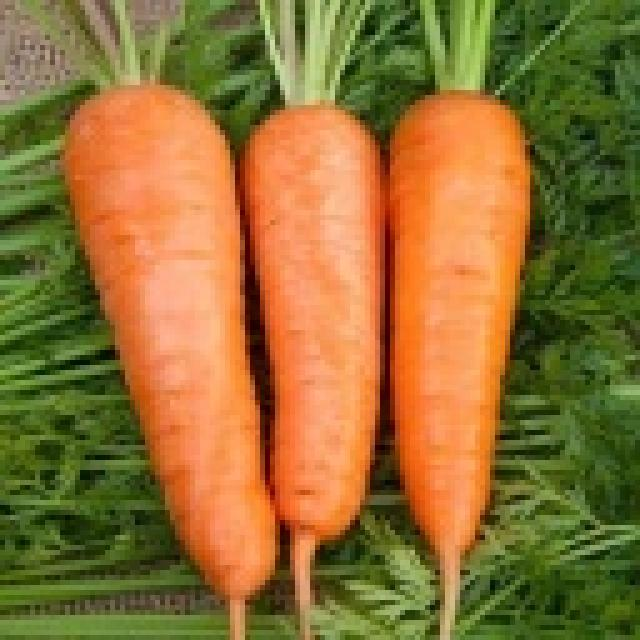carrot: (60, 53, 242, 589), (396, 26, 516, 634), (251, 36, 371, 577)
